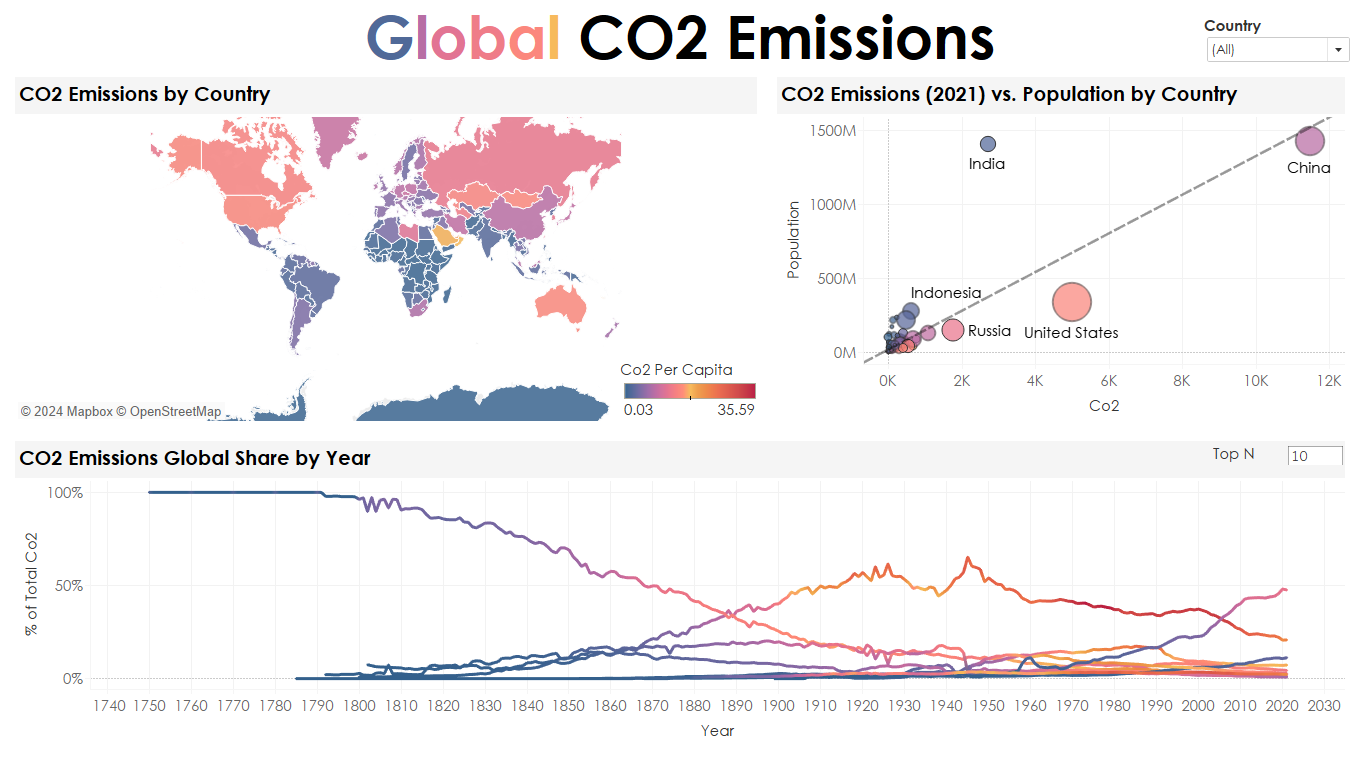

The page's visual inventory and layout, read from the dashboard file:
{"tool":"tableau","page":{"name":"Global CO2 Emissions","canvas":[1366,768],"ordinal":0},"visuals":[{"type":"text","box":[8,8,1350,63.2]},{"type":"filter","title":"Map","param":"[federated.0qpziib1qk9rpu12heb5i0mj1wvz].[none:Country (copy)_124721568004842700","box":[1207,20,149,48]},{"type":"worksheet","title":"Map","mark":"Automatic","box":[8,71.2,762,363.8]},{"type":"worksheet","title":"Scatter Plot","mark":"Circle","rows":["population"],"cols":["co2"],"box":[770,71.2,588,363.8]},{"type":"legend","title":"Map","param":"[federated.0qpziib1qk9rpu12heb5i0mj1wvz].[sum:co2_per_capita:qk]","box":[623,364,140,64]},{"type":"worksheet","title":"Line Chart","mark":"Automatic","cols":["year"],"box":[8,435,1350,325]},{"type":"parameter","param":"[Parameters].[Parameter 1]","box":[1216,447,133,22]}]}

Visuals, with their boxes in screenshot pixels (x1, y1, x2, y2), scaled from the page's 1366x768 canvas onto the 1358x760 screenshot:
text: {"left": 8, "top": 8, "right": 1350, "bottom": 70}
"Map" filter: {"left": 1200, "top": 20, "right": 1348, "bottom": 67}
"Map" worksheet: {"left": 8, "top": 70, "right": 765, "bottom": 430}
"Scatter Plot" worksheet (Circle marks): {"left": 765, "top": 70, "right": 1350, "bottom": 430}
"Map" legend: {"left": 619, "top": 360, "right": 759, "bottom": 424}
"Line Chart" worksheet: {"left": 8, "top": 430, "right": 1350, "bottom": 752}
parameter: {"left": 1209, "top": 442, "right": 1341, "bottom": 464}
